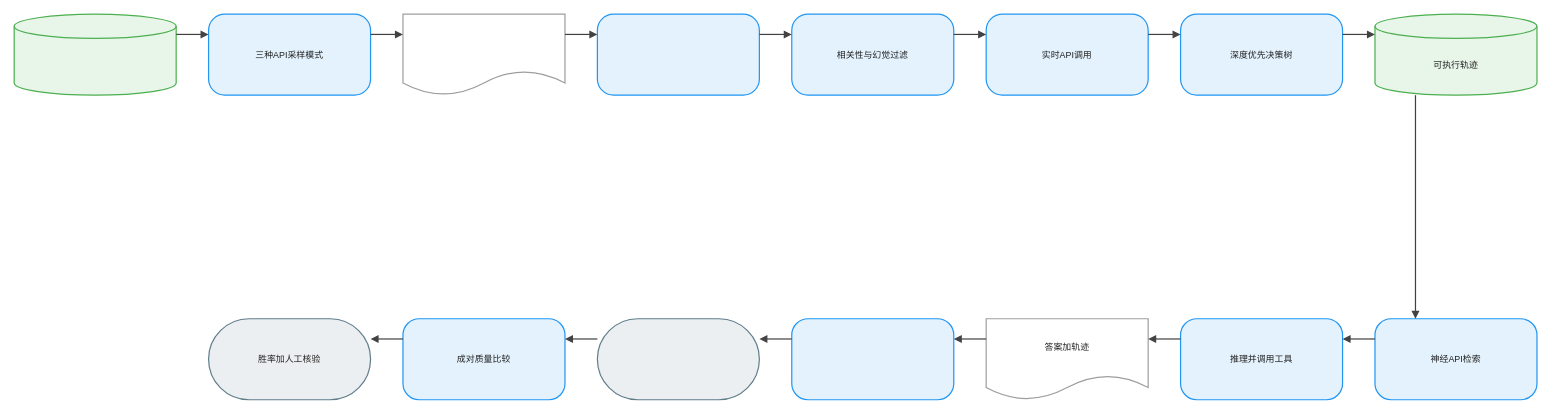
Image size: 1552x415. Some labels were removed from this diagram. Each missing label, with the centre of its shape:
"16464接口49类别" belongs at [94,54].
"多数完成判定" belongs at [872,359].
"文档加人工种子" belongs at [483,54].
"生成工具指令" belongs at [678,54].
"通过率" belongs at [678,359].
